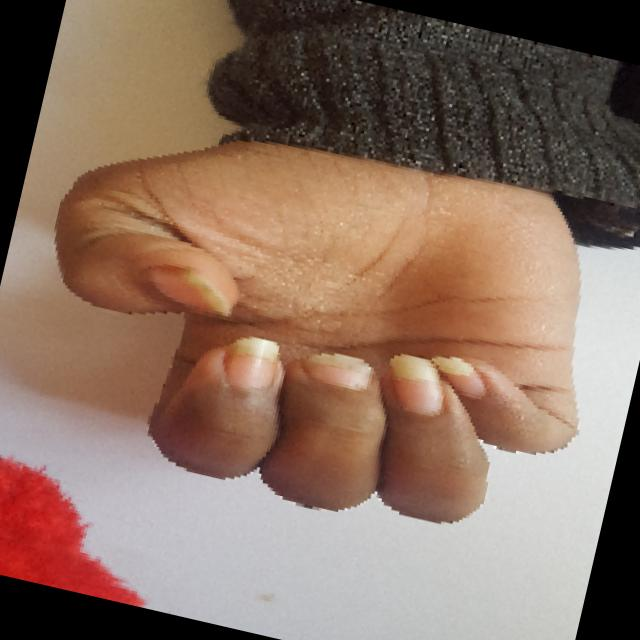Nail: (149, 266, 231, 315), (389, 355, 443, 415), (223, 338, 278, 389), (303, 353, 373, 390), (433, 356, 486, 397)
